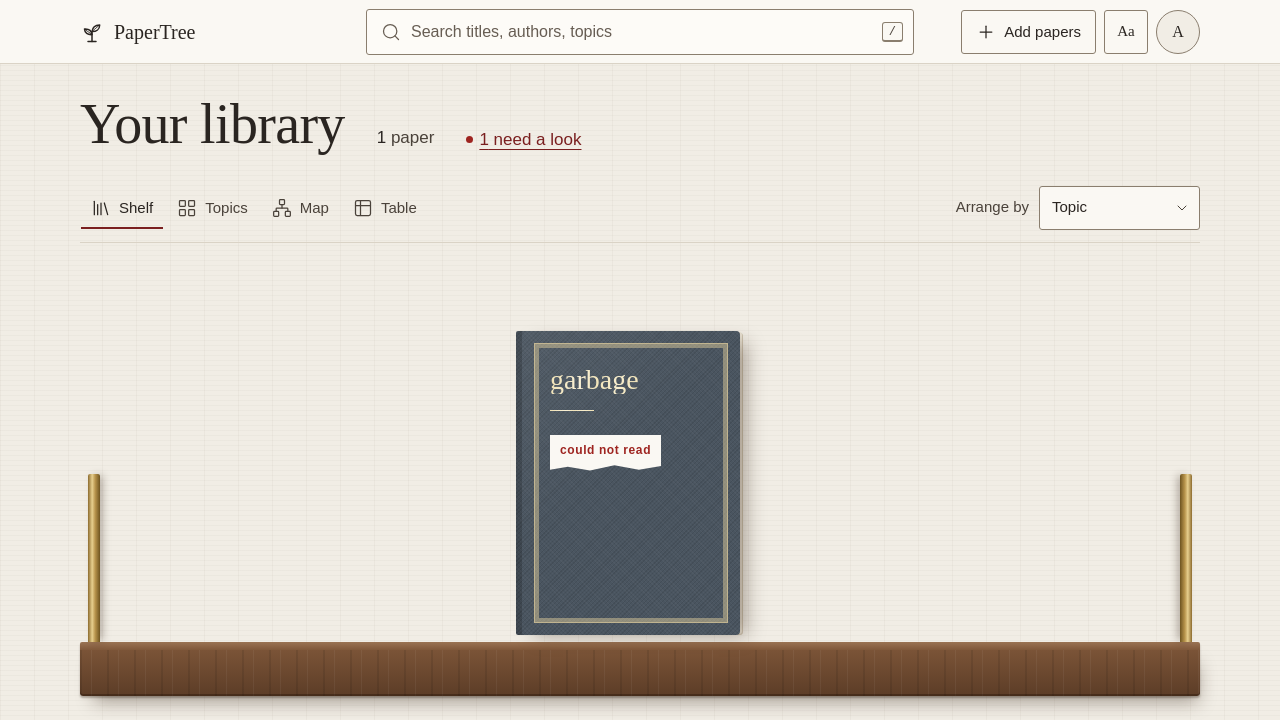
Test: a failed card says one sentence (item 2) › shows the reason once and never the generic state sentence next to it
The width and height of the screenshot is (1280, 720).
Click the button with aria-label "garbage, could not read" at (628, 482), box [516,330,740,634]
(page scrolled)
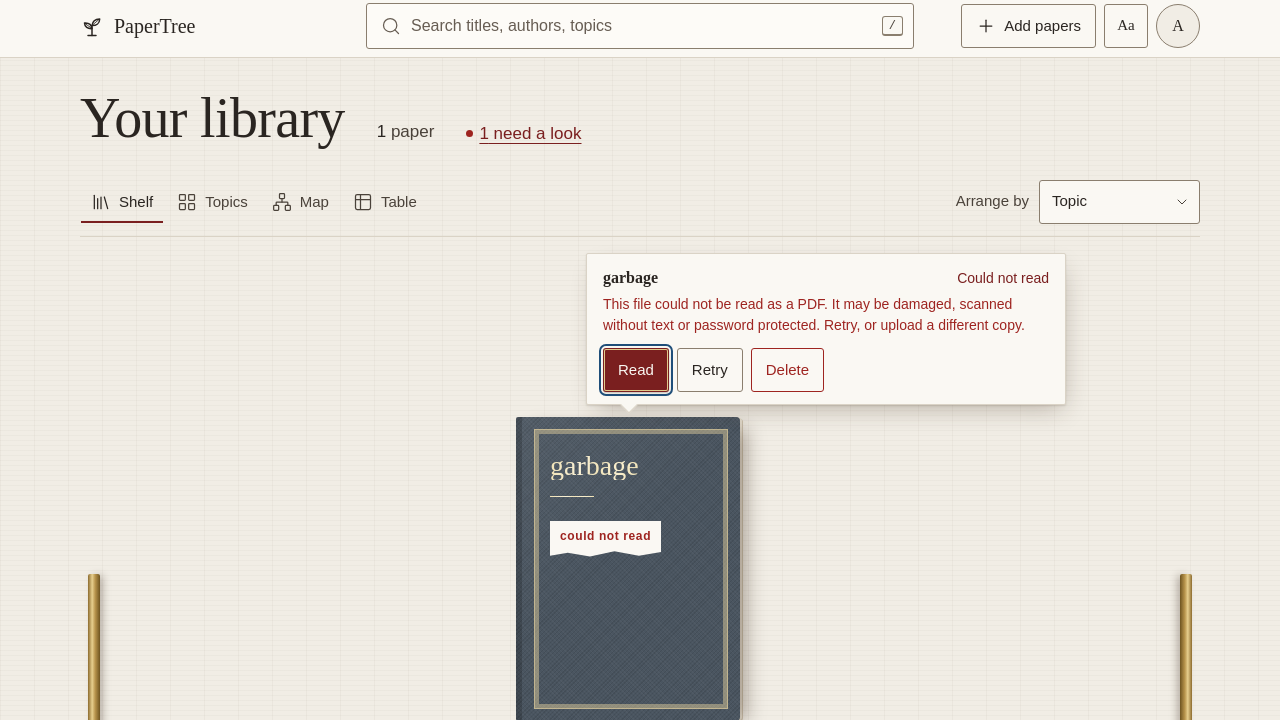
Expected: the element that starts with "garbage" shows "This file could not be read as a PDF. It may be damaged, scanned without text or password protected. Retry, or upload a different copy.", [603,296,1025,332]
Expected: the button "Retry" is shown, [677,348,743,392]
